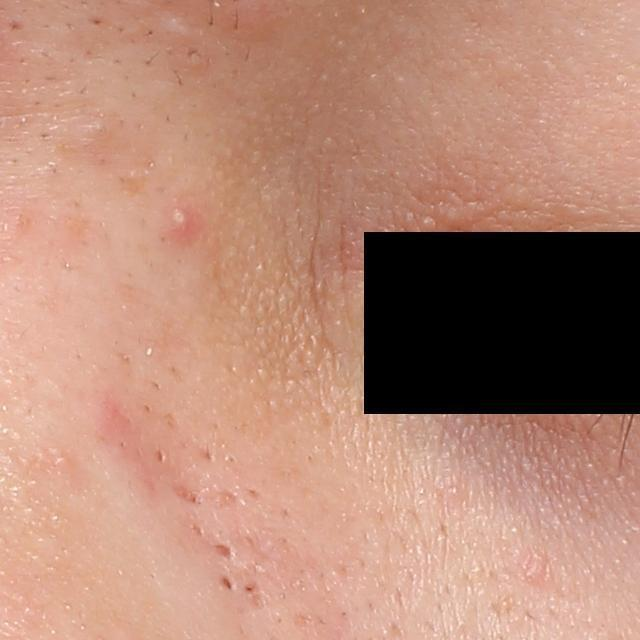atrophic_scar: (167, 485, 210, 509), (210, 542, 237, 564)
comedo: (84, 119, 107, 140), (217, 573, 237, 596), (155, 448, 166, 463)
hypertrophic_scar: (144, 13, 211, 47)
pustule: (154, 199, 197, 242)
